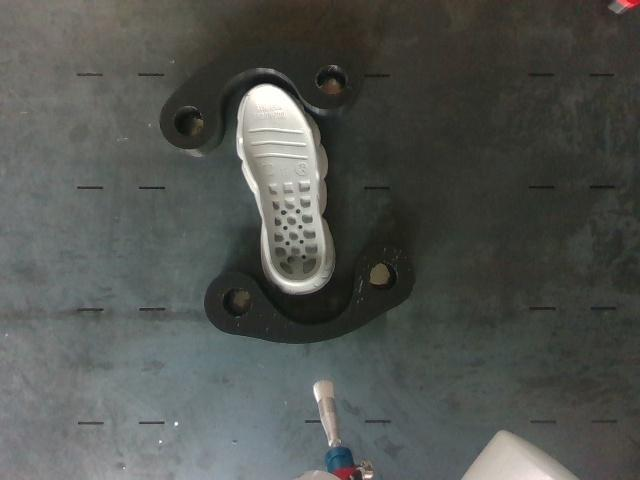shoes: (242, 85, 323, 281)
